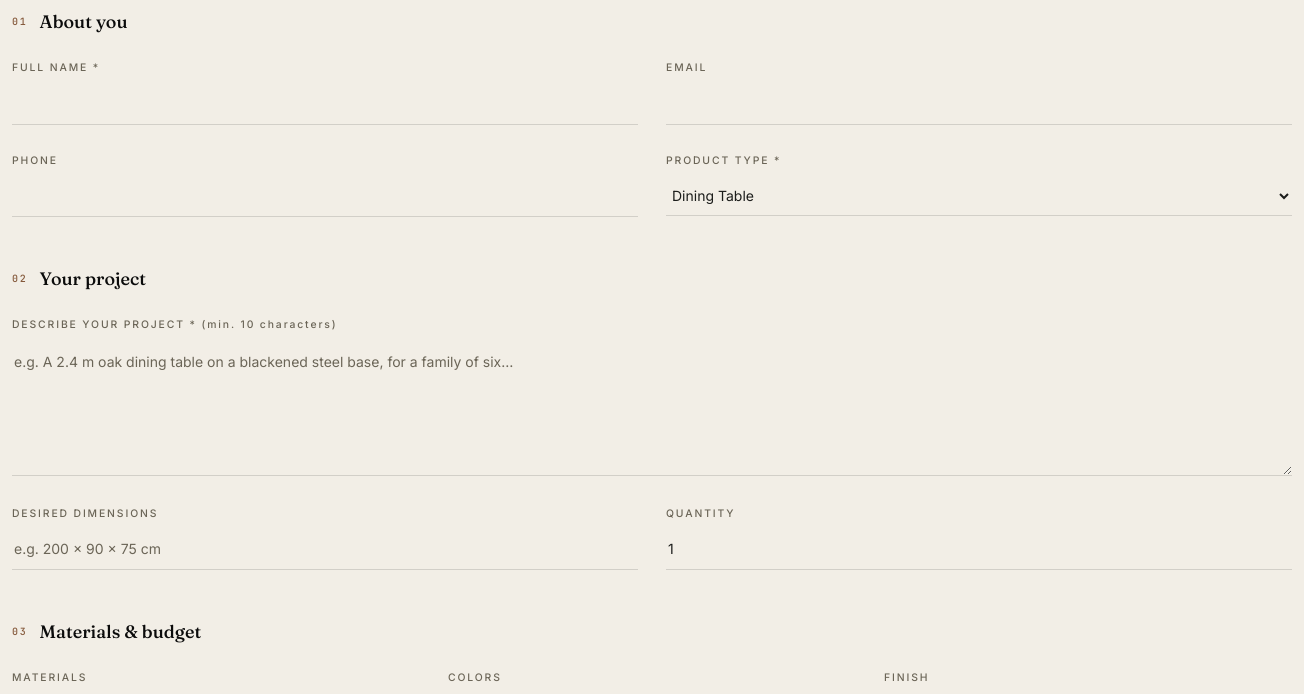
Scenario: CustomRequestForm › shows an error message when the API rejects the request
This screenshot has width=1304, height=694.
In the field labelled "Full name *": (325, 104) [12,84,638,125], type "Amine Belkacem"
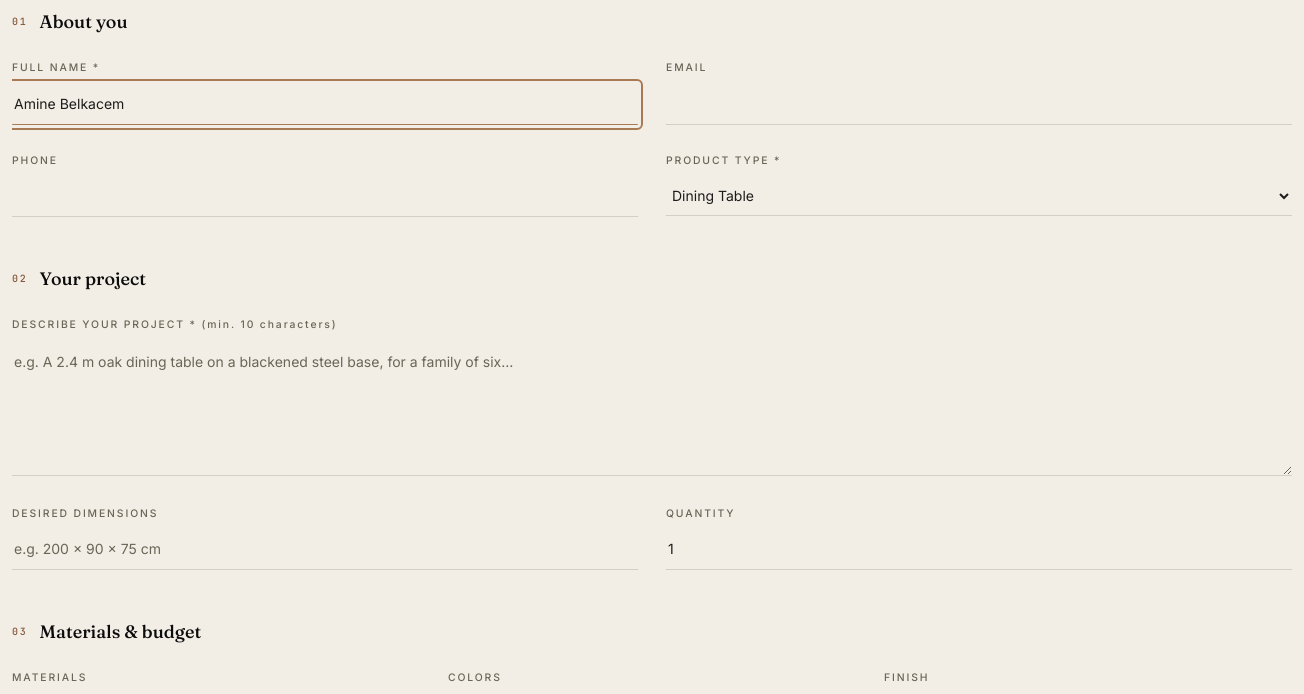
In the field labelled "Email": (979, 104) [666,84,1292,125], type "amine@example.com"
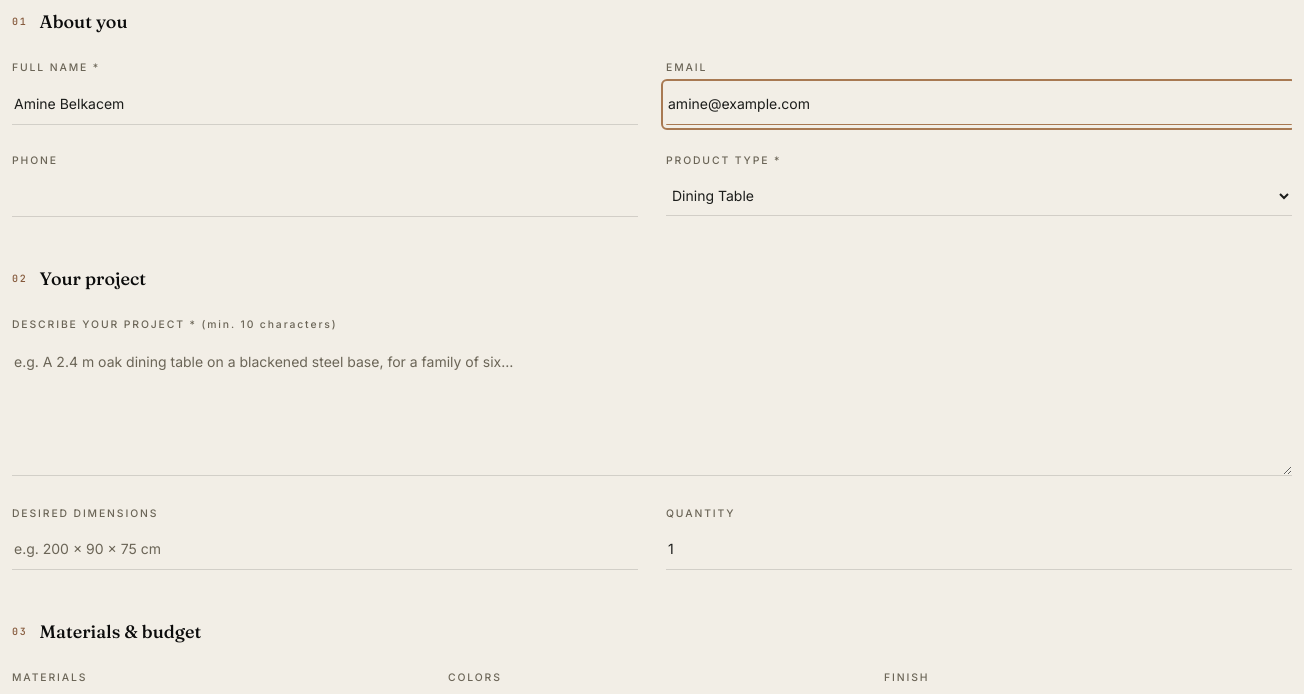
Select "Dining Table" in the dropdown labelled "Product type *": (979, 196) [666,176,1292,216]
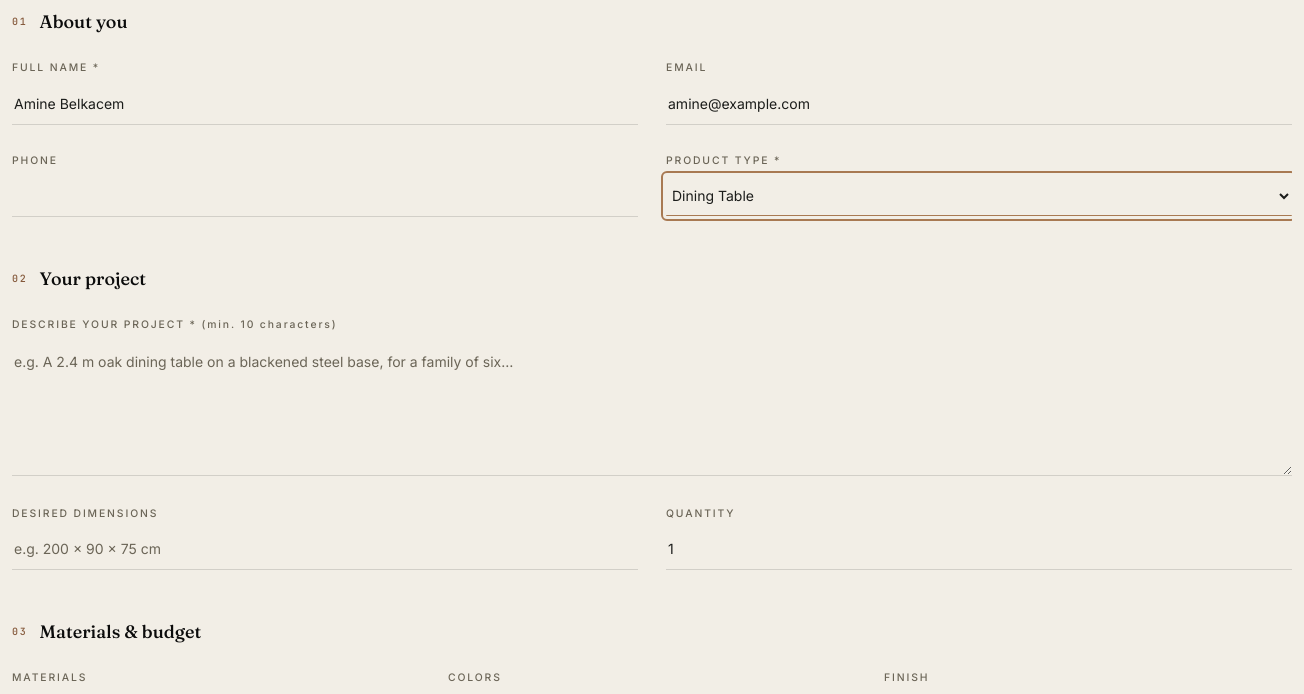
In the text box labelled "Describe your project * (min. 10 characters)": (652, 408) [12,341,1292,476], type "A large oak dining table for 8 people"
(page scrolled)
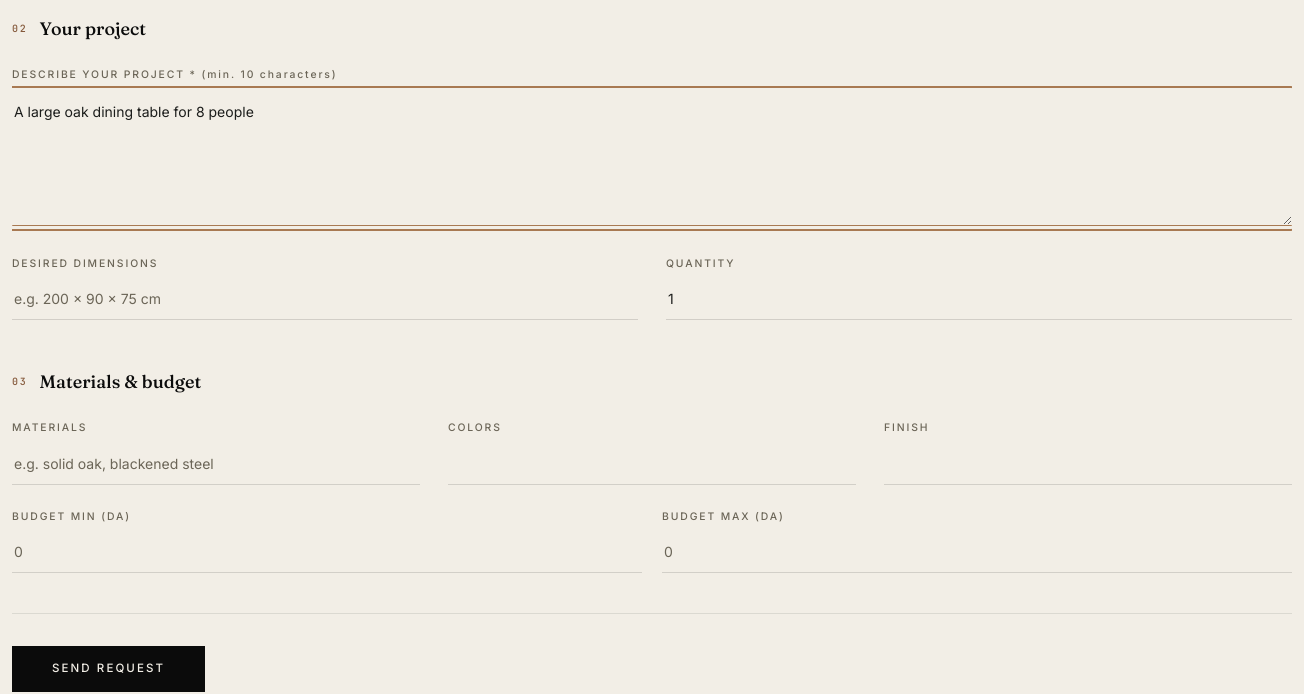
Click the button "Send request": (108, 669) [12,646,205,692]
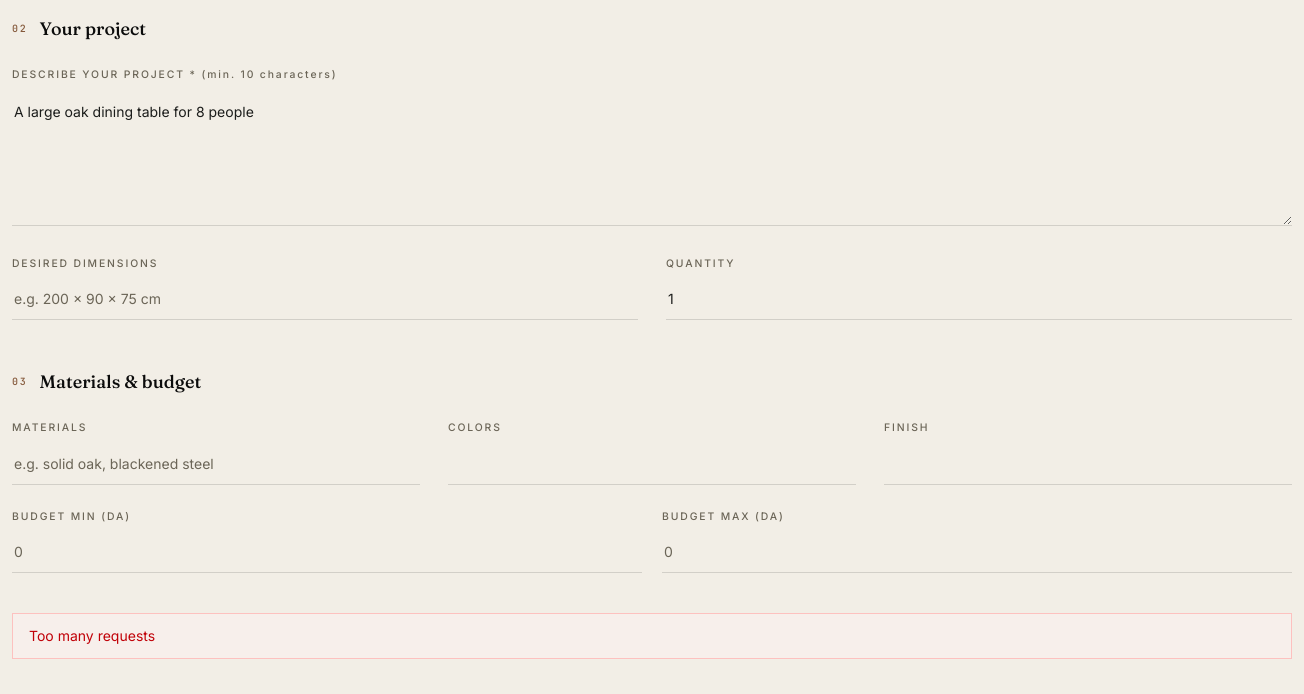
Check: the message reads "Too many requests", box [29,627,155,644]
